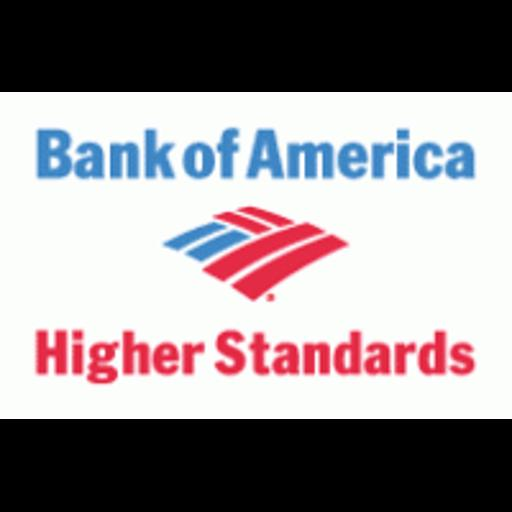Bank of America: (0, 92, 512, 419)
